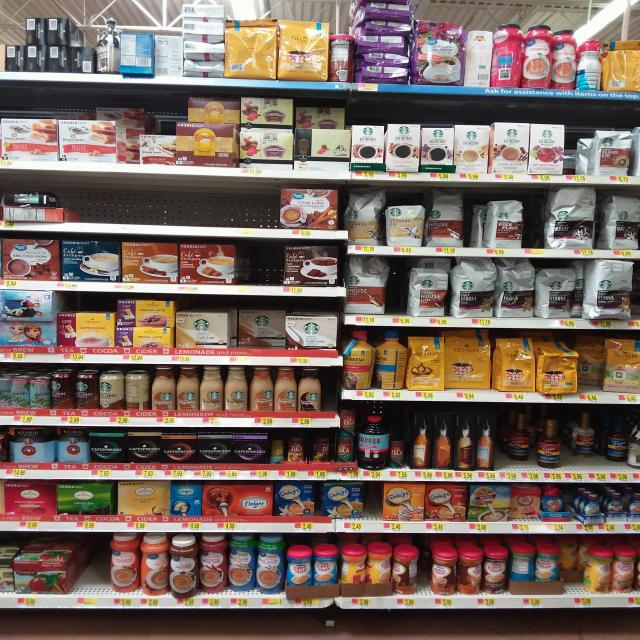empty: (62, 175, 283, 232), (70, 531, 114, 594), (227, 240, 283, 288)
